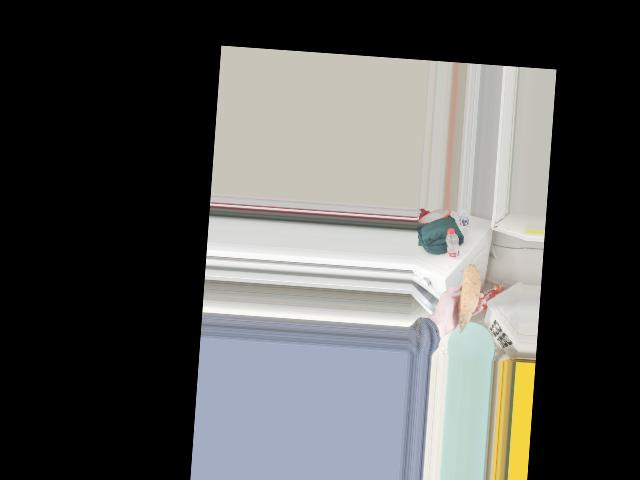sweet_potato: (455, 269, 477, 330)
